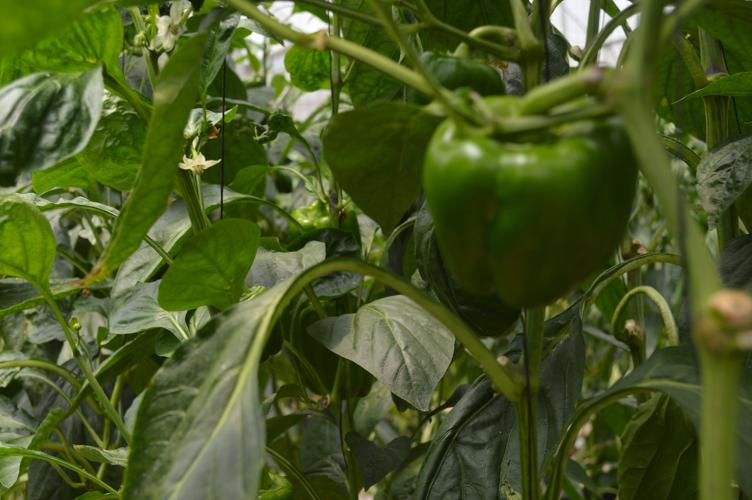BellPepper: (424, 115, 635, 307)
